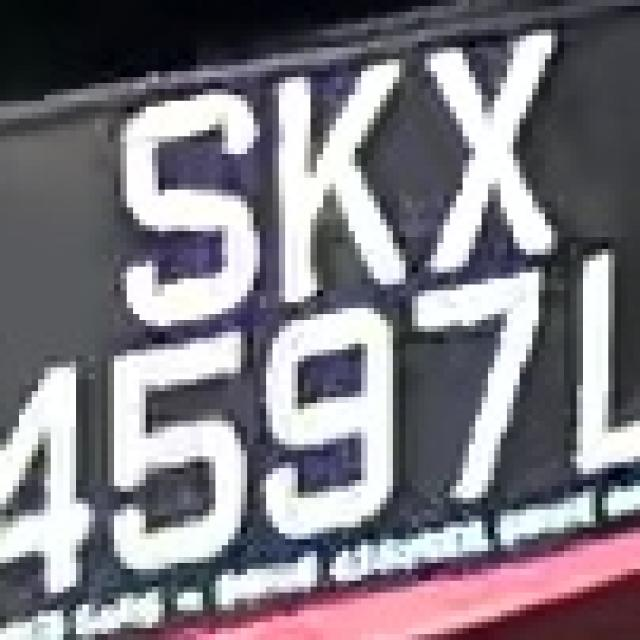4: (6, 332, 108, 587)
5: (108, 326, 266, 593)
7: (393, 272, 551, 510)
9: (253, 290, 393, 557)
K: (254, 41, 399, 326)
L: (5, 2, 6, 5)
S: (101, 59, 260, 326)
X: (406, 18, 596, 261)
